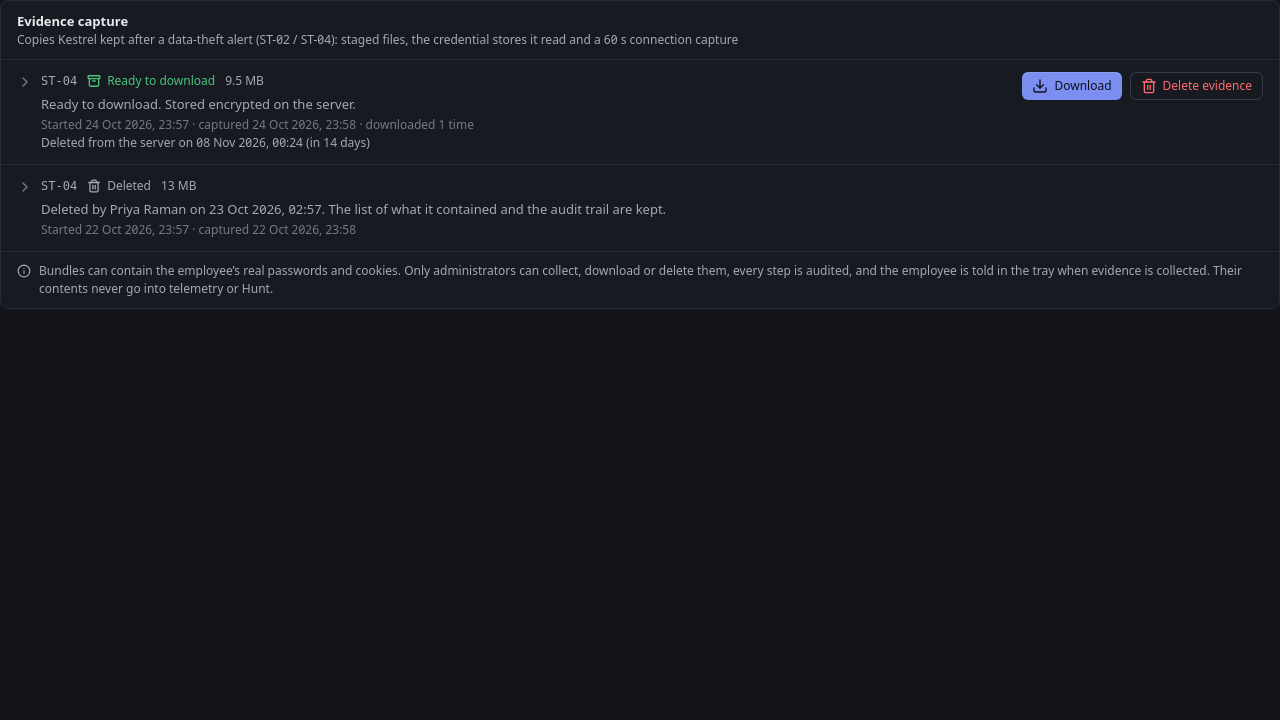
it: EvidencePanel › shows the download password once and forgets it on close
Click the button "Download". click: (1072, 86)
box: [1022, 72, 1122, 100]
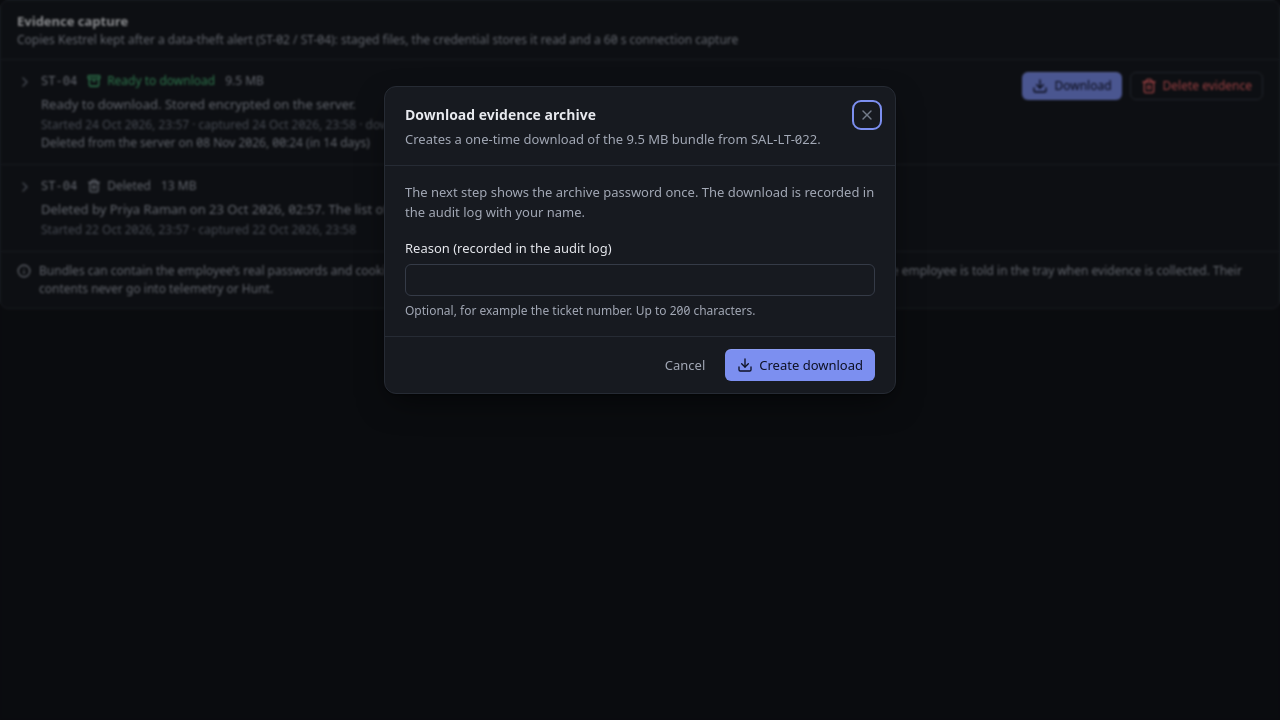
Click the button "Create download". click: (800, 365)
box: [725, 349, 875, 381]
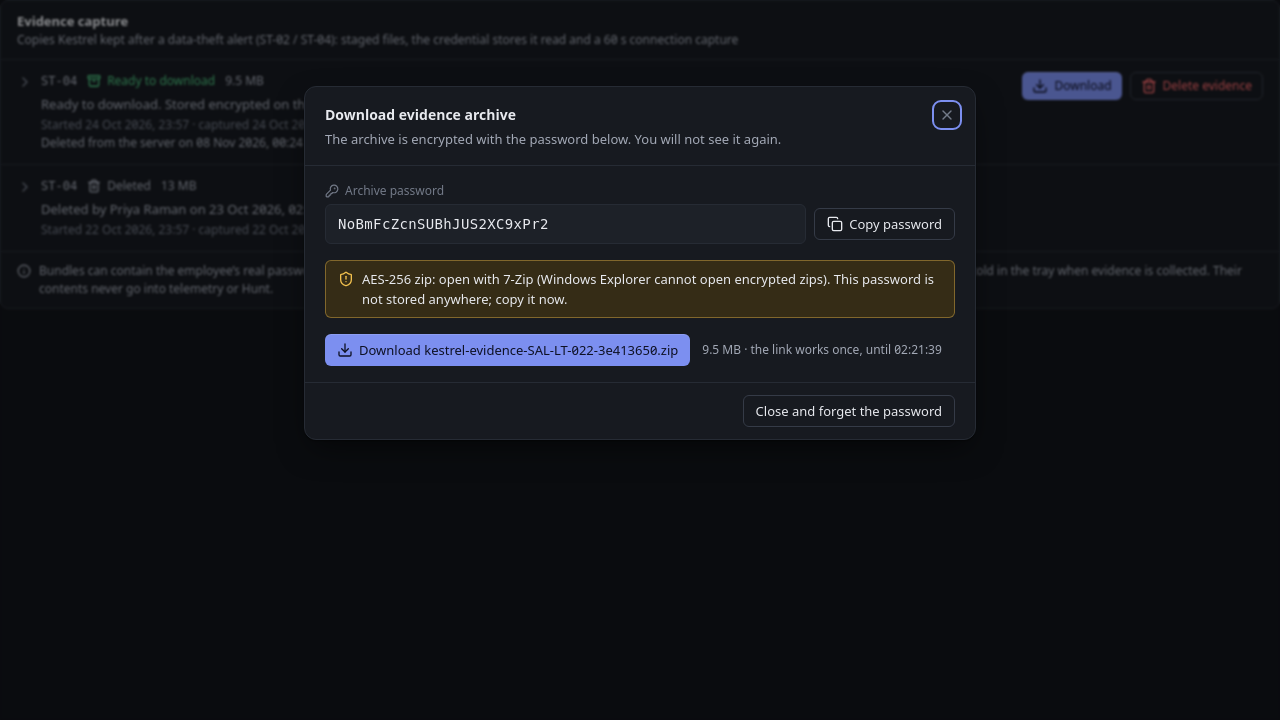
Result: the text named "Archive password" is shown at [325, 204, 806, 244]
Result: the text "AES-256 zip: open with 7-Zip (Windows Explorer cannot open encrypted zips). This password is not stored anywhere; copy i" is shown at [362, 270, 934, 308]
Result: the button "Copy password" is shown at [814, 208, 955, 240]
Click the button "Close and forget the password". click: (849, 411)
box: [743, 395, 955, 427]
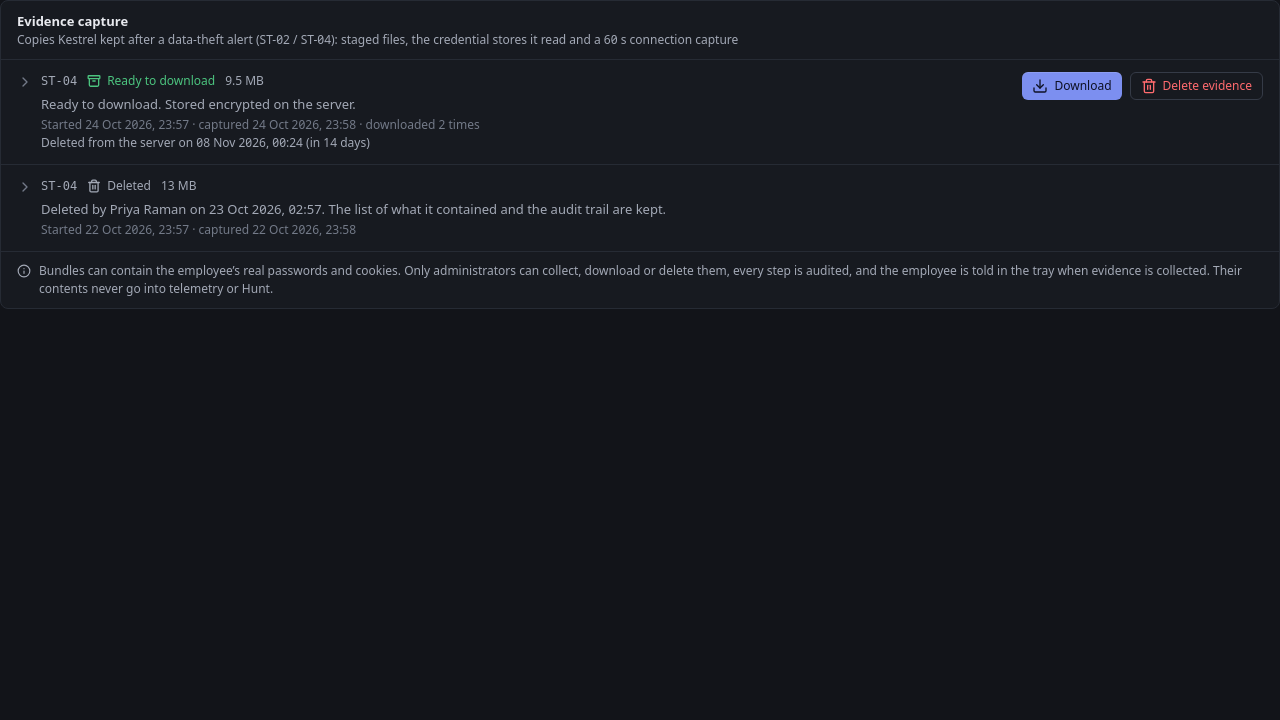
Result: the dialog is gone
